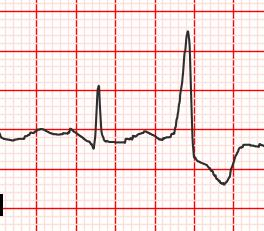ST Depression: (171, 128, 211, 169)
T inversion: (205, 151, 242, 188)
